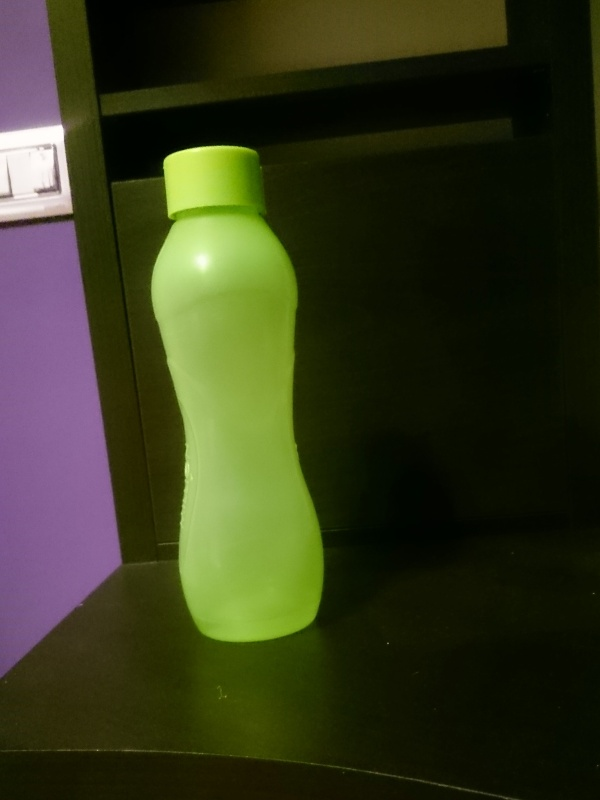my bottle: (151, 149, 321, 647)
